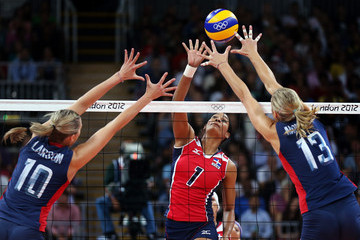volleyball: (203, 8, 239, 42)
